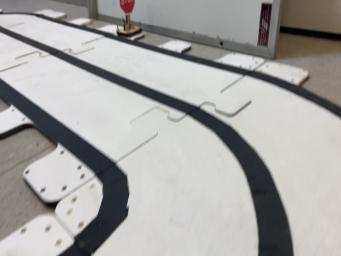stop: (117, 0, 144, 37), (117, 0, 144, 37), (117, 0, 144, 37)
street: (0, 11, 341, 256), (0, 11, 341, 256), (0, 11, 341, 256)
